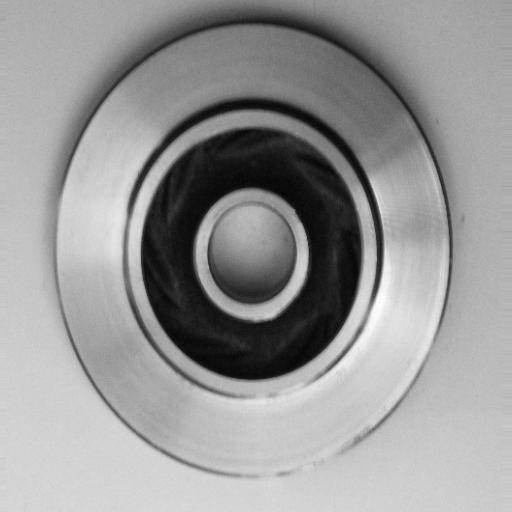scratch: (247, 434, 377, 497)
unpolished_casting: (55, 18, 454, 484)
